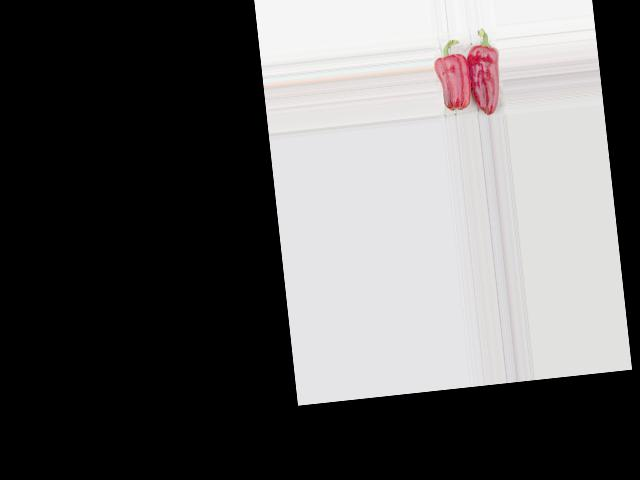bell_pepper: (463, 24, 504, 116)
